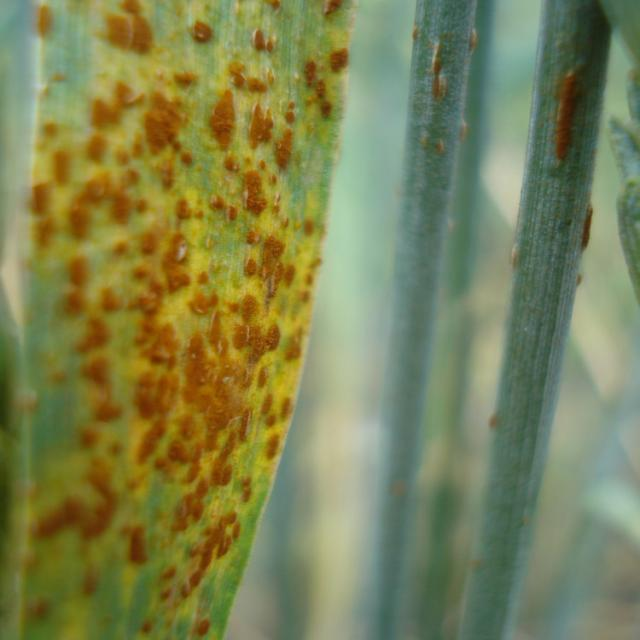Stem Rust: (28, 2, 345, 640)
